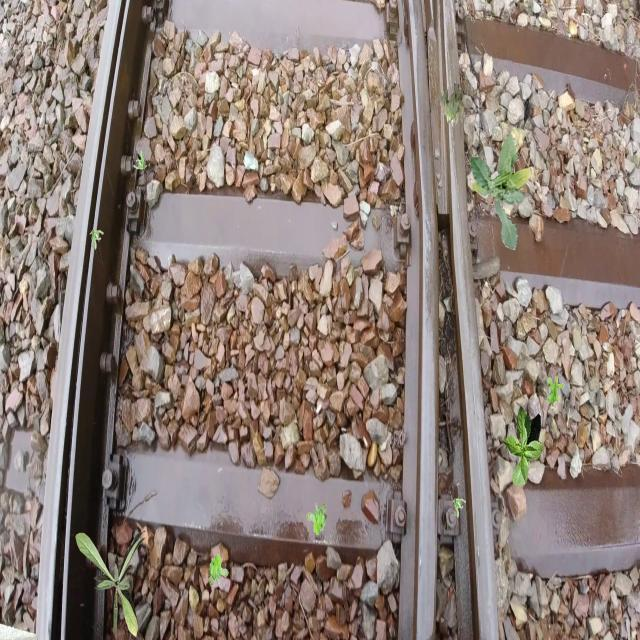Plant: (470, 126, 532, 250), (75, 531, 146, 639), (502, 406, 544, 486), (439, 83, 465, 126), (208, 554, 228, 587), (306, 503, 326, 536), (547, 375, 564, 407), (134, 149, 148, 170), (90, 229, 104, 250), (452, 498, 466, 518)
